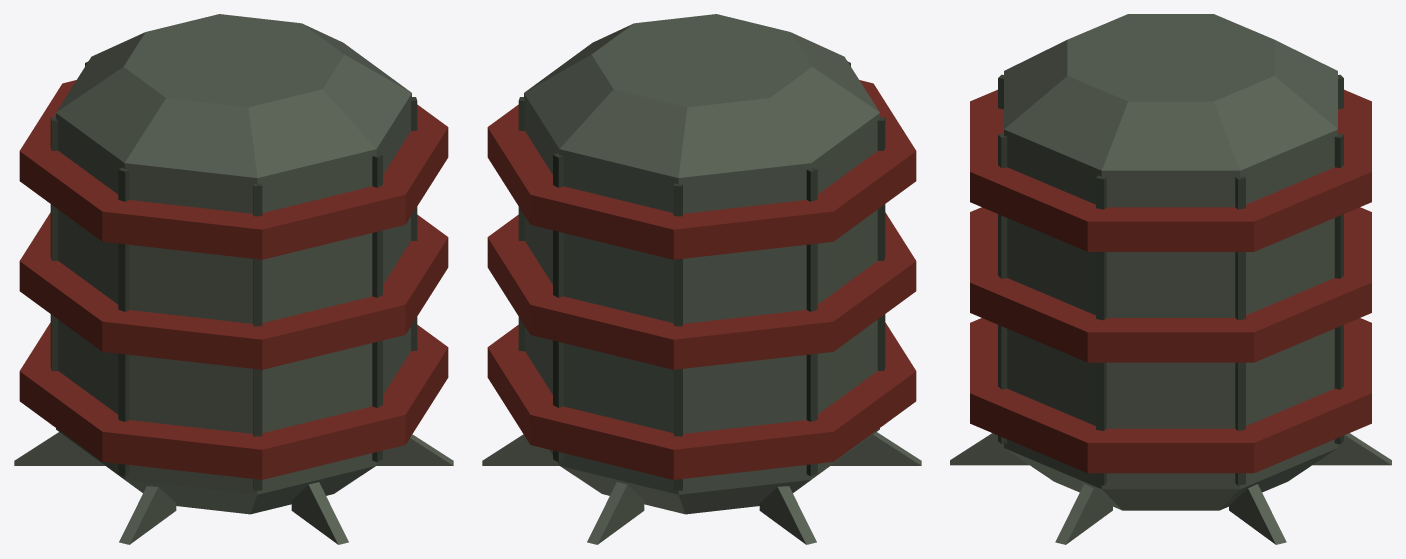
File: s150_vessel.obj
The picture shows the model from 3 angles, left to right: view 1: azimuth 30°, elevation 25°; view 2: azimuth 150°, elevation 25°; view 3: azimuth 270°, elevation 25°; orthographic projection.
Parts seen in each view (by area): view 1: s150_vessel; view 2: s150_vessel; view 3: s150_vessel.
Part boxes in pixels (x1,y1,x2,y2): s150_vessel: (14, 14, 453, 544); s150_vessel: (482, 14, 921, 544); s150_vessel: (950, 14, 1391, 544).
Bounding box in the file's own units: 1.14 × 1.27 × 1.25.
